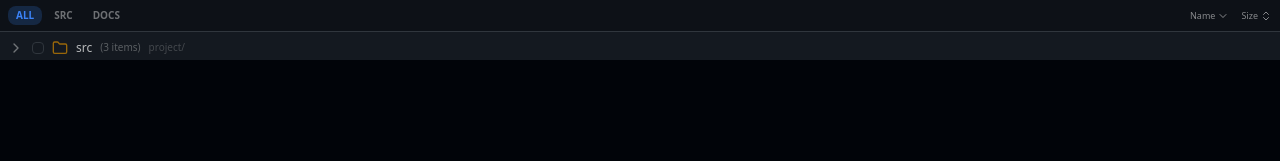
Test: FileTree Indexing Scenarios › Initial render with various structures › should render directory with children
Expected: the text "src" is shown, [76,38,92,56]
Note: Expand to see children
Step 1. Click the button with test id "expand-icon" → (16, 48), box [6,38,26,58]
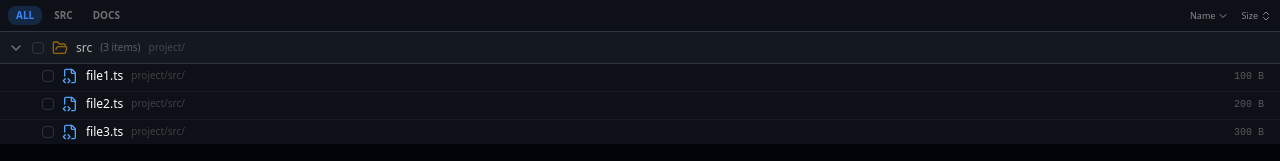
Result: the text "file1.ts" is shown at [86,66,123,84]
Result: the text "file2.ts" is shown at [86,94,123,112]
Result: the text "file3.ts" is shown at [86,122,123,140]
